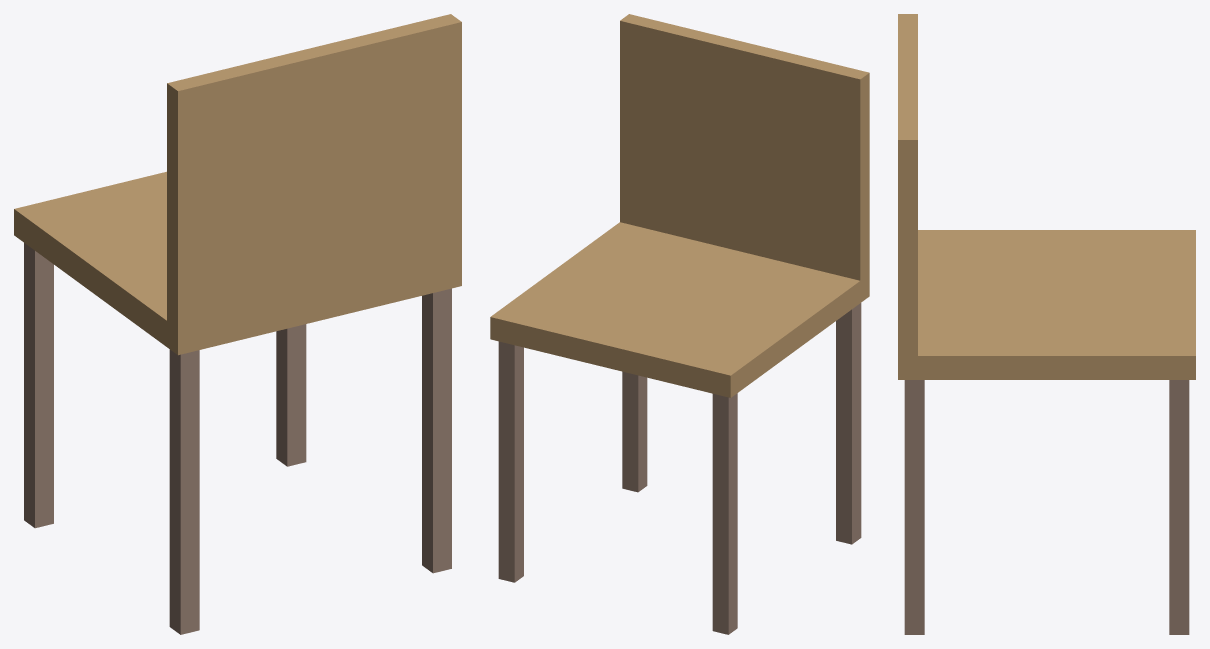
3 views of the same model, side by side, from view 1: azimuth 30°, elevation 25°; view 2: azimuth 150°, elevation 25°; view 3: azimuth 270°, elevation 25° (orthographic). The views are drawn at different scales.
Parts seen in each view (by area): view 1: Backrest, Seat, Back Right Leg, Back Left Leg, Front Right Leg, Front Left Leg; view 2: Backrest, Seat, Front Right Leg, Front Left Leg, Back Right Leg, Back Left Leg; view 3: Seat, Backrest, Front Left Leg, Back Left Leg.
Part boxes in pixels (x1,y1,x2,y2): Backrest: [167, 14, 461, 328]; Seat: [14, 171, 461, 355]; Back Right Leg: [169, 349, 199, 634]; Back Left Leg: [422, 288, 451, 573]; Front Right Leg: [24, 243, 53, 528]; Front Left Leg: [276, 324, 306, 466]; Backrest: [620, 14, 869, 280]; Seat: [490, 222, 869, 397]; Front Right Leg: [712, 393, 737, 634]; Front Left Leg: [498, 341, 523, 582]; Back Right Leg: [836, 303, 861, 544]; Back Left Leg: [622, 371, 647, 492]; Seat: [898, 230, 1195, 379]; Backrest: [898, 14, 917, 355]; Front Left Leg: [1169, 380, 1189, 634]; Back Left Leg: [904, 380, 924, 634].
Size of the model in its own units: 0.45 by 0.83 by 0.45.
